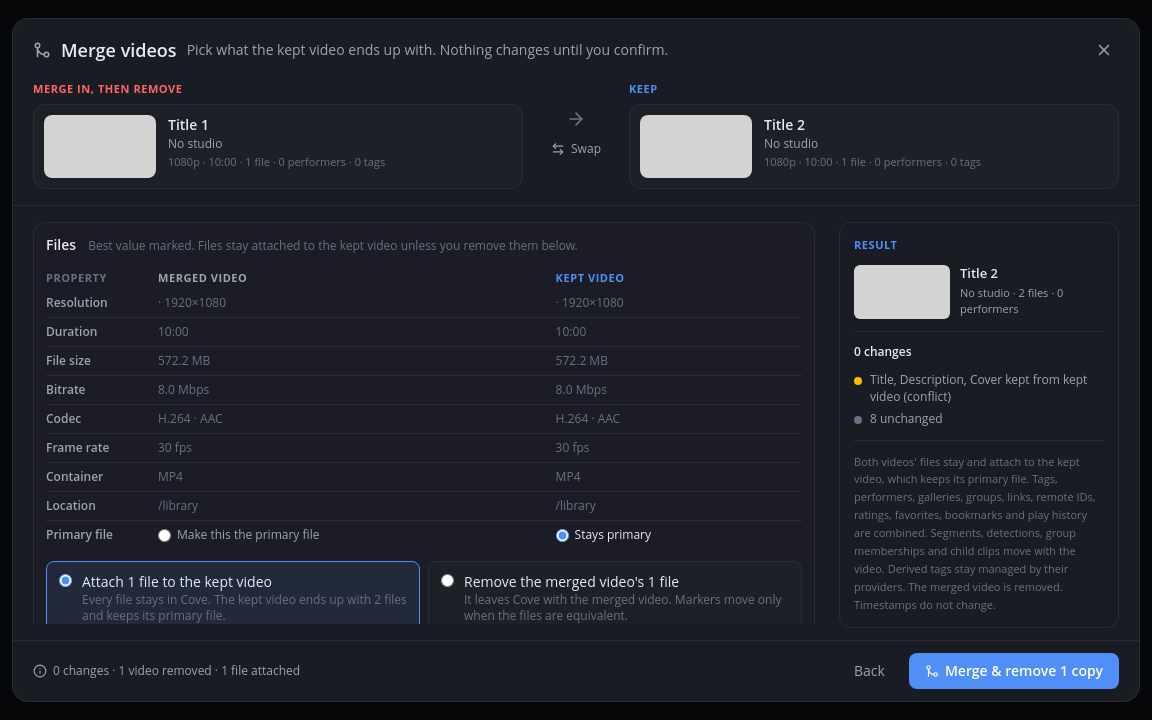
VideoMergeEditor combined incoming side › warns before the merge which markers would not follow a removed file
Click the radio button labelled "Remove the merged video's 1 file": (448, 581) [441,574,454,587]
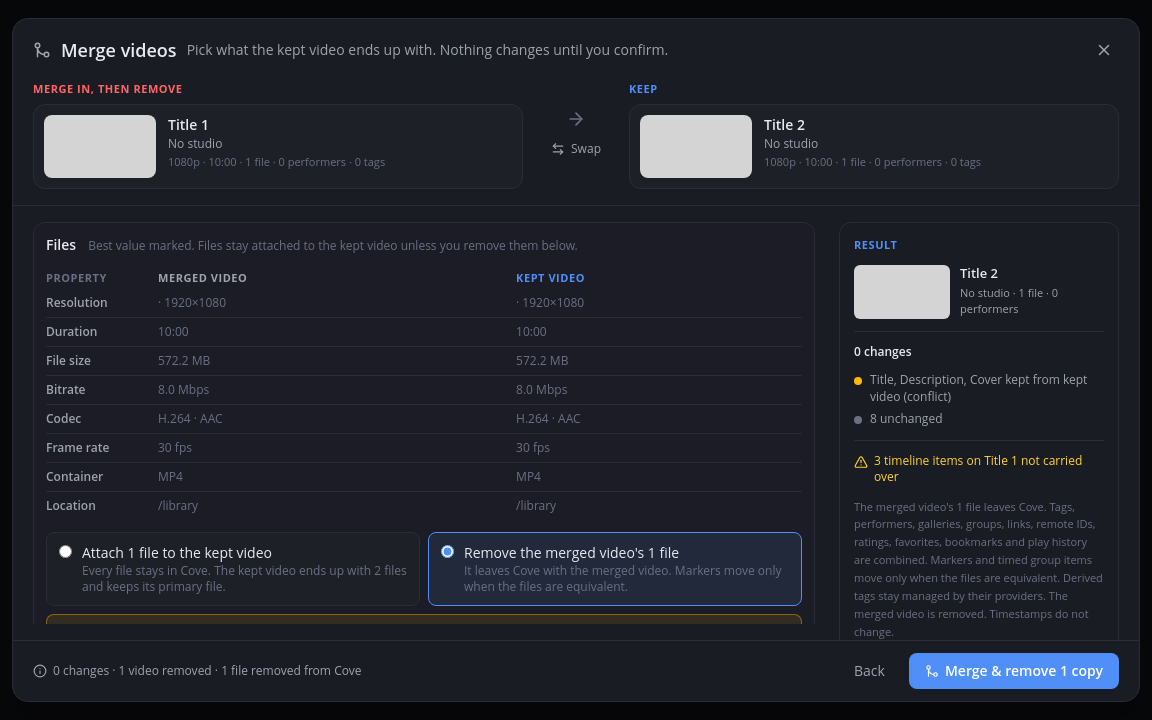
Click the radio button labelled "Attach 1 file to the kept video": (66, 552) [59,545,72,558]
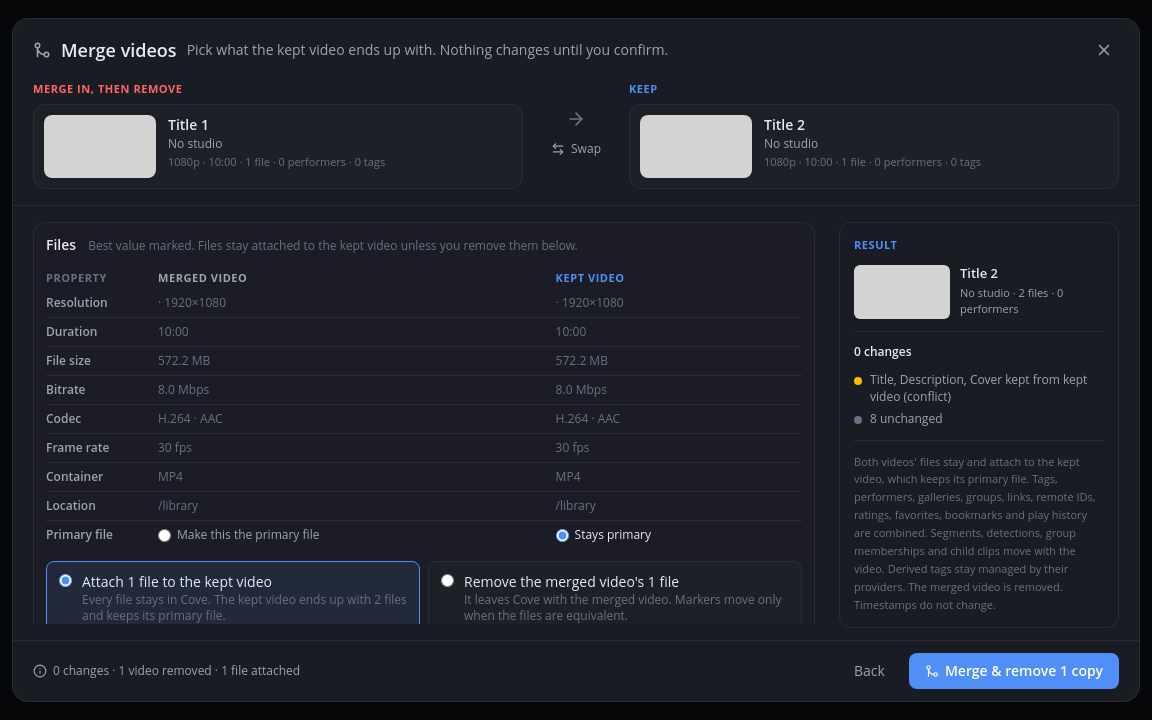
Result: the message is gone
